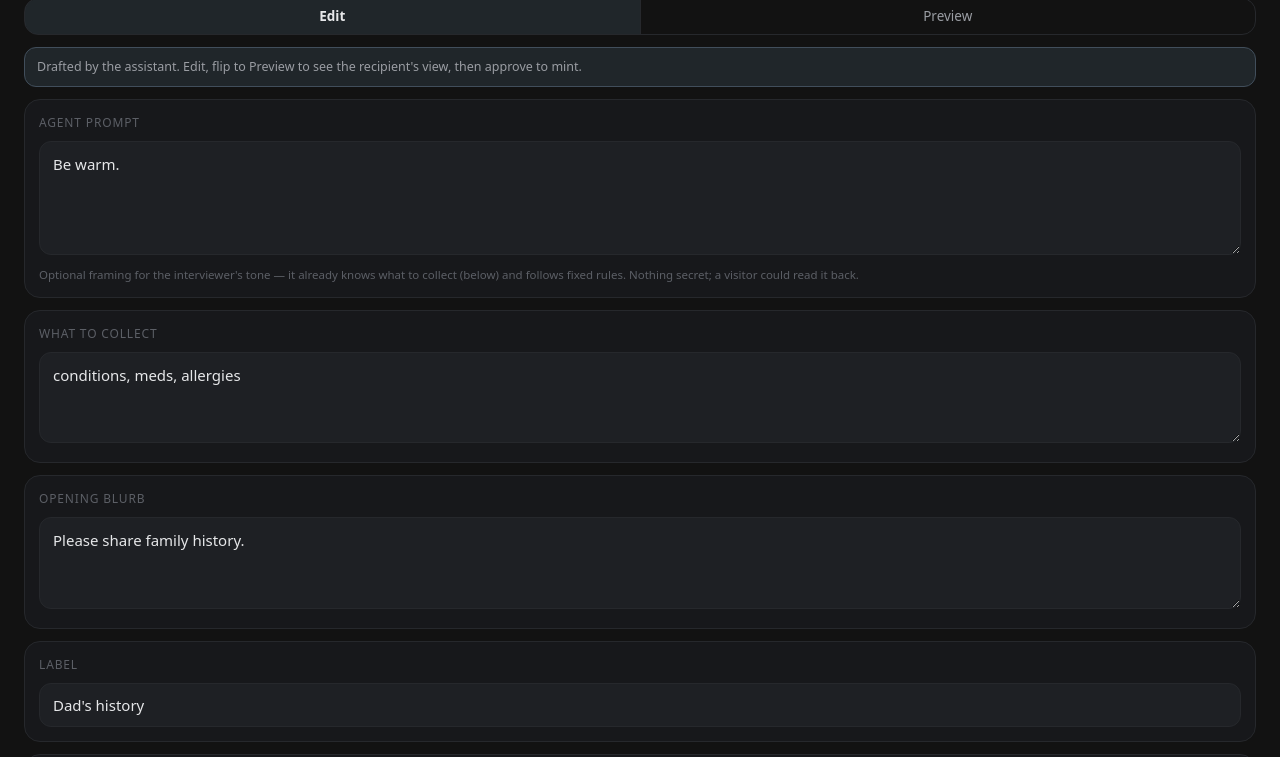
IntakeLinkProposalEditor › patches every editable field then mints, surfacing the secret once
The width and height of the screenshot is (1280, 757).
Replace the text in the text box labelled "Opening blurb" with "Edited." at (640, 563), box [39,517,1241,609]
(page scrolled)
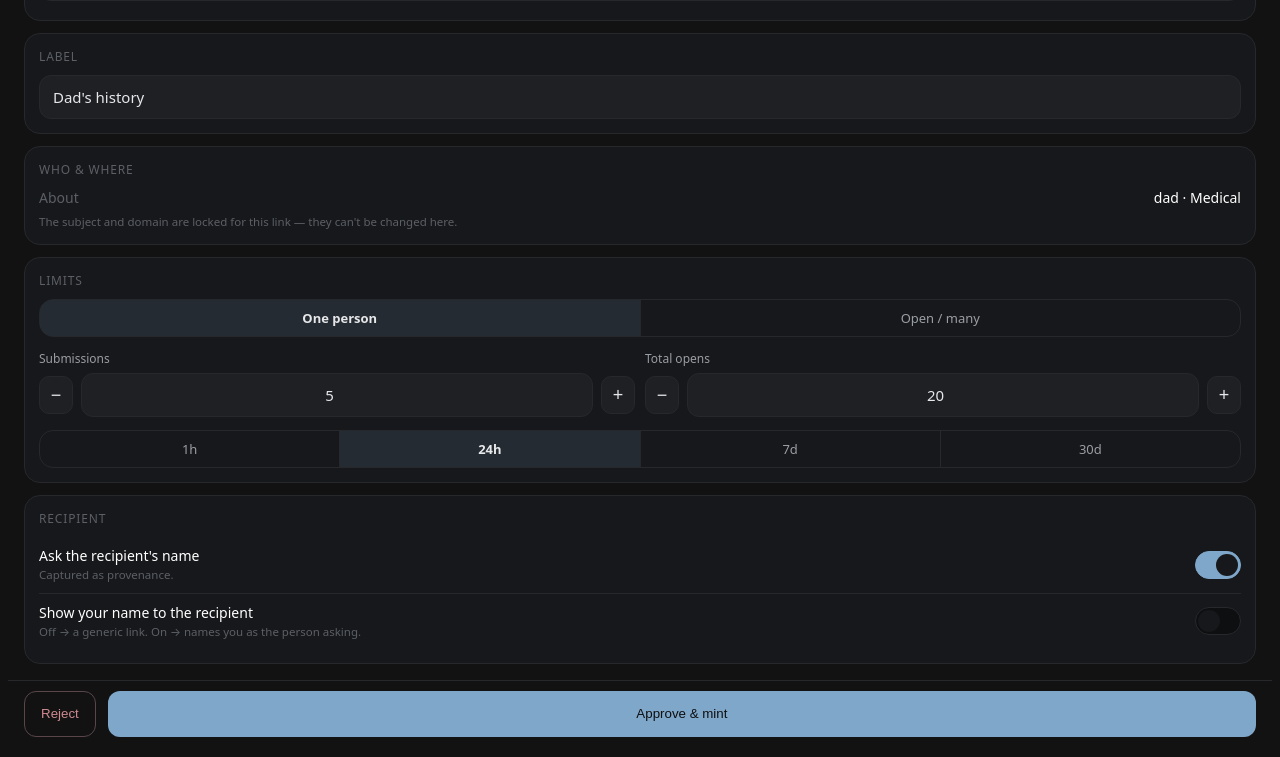
Click the button "Approve & mint".
click(682, 714)  # box [108,691,1256,737]
(page scrolled)
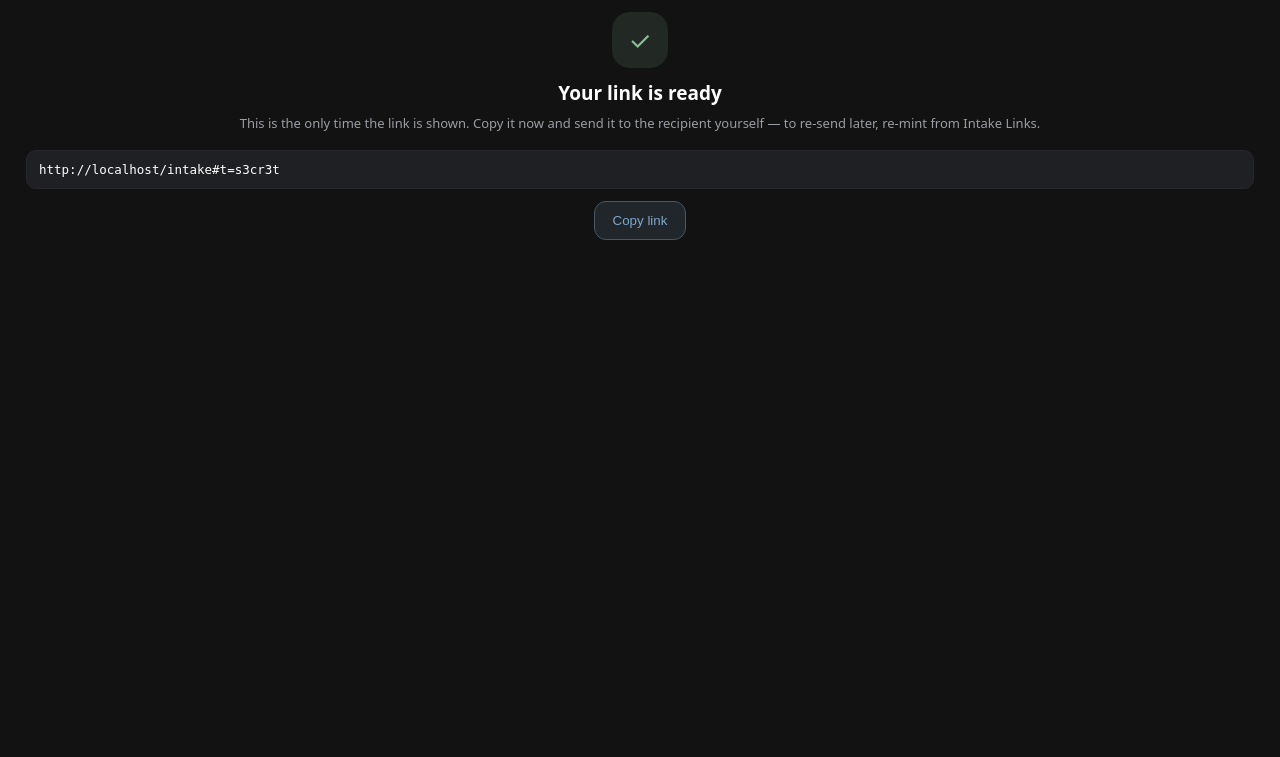
Expected: the heading "Your link is ready" is shown, [558,80,722,106]
Expected: the text "http://localhost/intake#t=s3cr3t" is shown, [26,150,1254,188]
